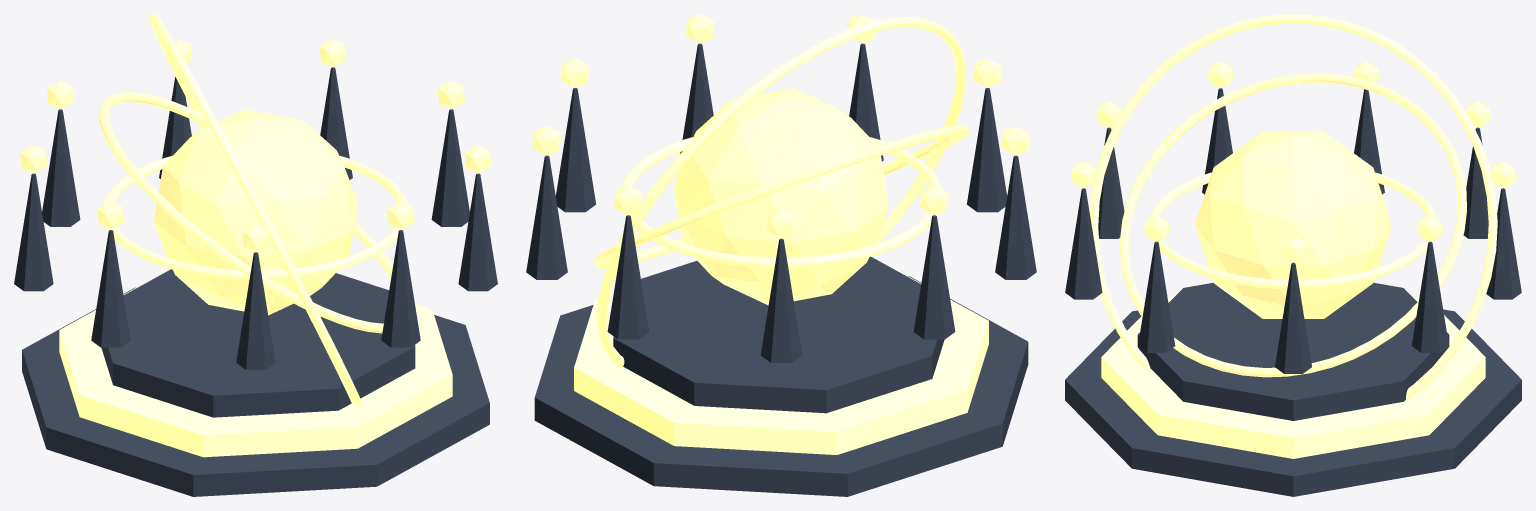
File: gpu-blender-v51.glb
3 renders of one model, left to right at view 1: azimuth 30°, elevation 25°; view 2: azimuth 150°, elevation 25°; view 3: azimuth 270°, elevation 25°, orthographic. The views are drawn at different scales.
Visible parts, largest first — view 1: Cylinder.002, SovereignCore_mcp-lens, Cylinder, Cylinder.001, Torus.001, Torus.002, Torus, Cone.004, Cone.008, Cone.005, Cone.007, Cone.006 (+12 smaller); view 2: Cylinder.002, SovereignCore_mcp-lens, Cylinder, Cylinder.001, Torus.002, Torus.001, Torus, Cone.002, Cone.004, Cone, Cone.001, Cone.005 (+12 smaller); view 3: SovereignCore_mcp-lens, Cylinder.002, Cylinder, Cylinder.001, Torus.002, Torus.001, Torus, Cone.007, Cone.001, Cone.008, Cone, Cone.002 (+10 smaller).
Boxes of the visible parts, box(x1,y1,x2,y2) form: Cylinder.002: box(101, 269, 415, 417); SovereignCore_mcp-lens: box(153, 109, 358, 315); Cylinder: box(22, 287, 489, 496); Cylinder.001: box(59, 277, 452, 457); Torus.001: box(99, 92, 393, 333); Torus.002: box(149, 14, 361, 405); Torus: box(103, 155, 408, 279); Cone.004: box(14, 173, 53, 291); Cone.008: box(458, 173, 497, 291); Cone.005: box(91, 230, 130, 347); Cone.007: box(381, 230, 420, 347); Cone.006: box(236, 252, 275, 369); Cylinder.002: box(613, 256, 944, 413); SovereignCore_mcp-lens: box(673, 88, 889, 305); Cylinder: box(534, 276, 1028, 496); Cylinder.001: box(574, 265, 988, 454); Torus.002: box(596, 17, 966, 367); Torus.001: box(594, 124, 968, 269); Torus: box(621, 137, 942, 268); Cone.002: box(607, 215, 649, 339); Cone.004: box(913, 215, 955, 339); Cone: box(555, 88, 596, 212); Cone.001: box(526, 155, 567, 279); Cone.005: box(995, 155, 1036, 279); SovereignCore_mcp-lens: box(1195, 131, 1391, 318); Cylinder.002: box(1137, 282, 1449, 420); Cylinder: box(1065, 309, 1521, 496); Cylinder.001: box(1101, 296, 1485, 458); Torus.002: box(1090, 14, 1497, 400); Torus.001: box(1120, 73, 1466, 377); Torus: box(1150, 172, 1436, 288); Cone.007: box(1065, 188, 1102, 299); Cone.001: box(1411, 241, 1448, 352); Cone.008: box(1138, 241, 1175, 352); Cone: box(1275, 262, 1311, 373); Cone.002: box(1486, 188, 1521, 299).
Bounding box in the file's own units: 4.41 × 3.72 × 4.4.
